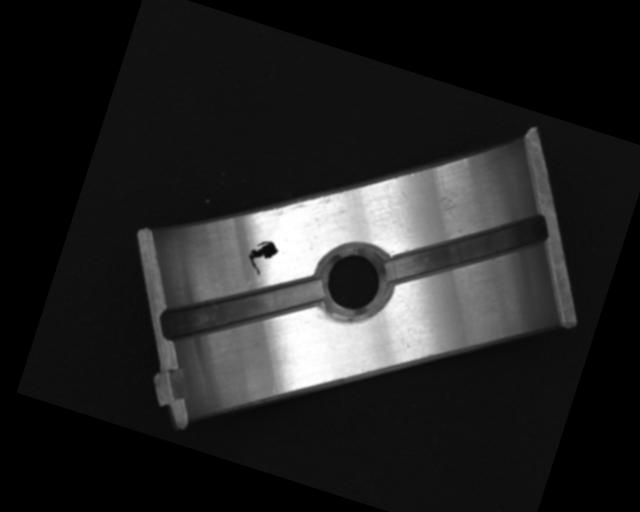blot: (242, 235, 281, 280)
gap: (379, 176, 551, 322), (157, 238, 326, 381)
hole: (311, 241, 391, 325)
